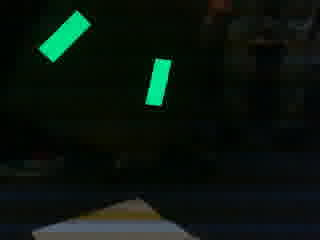target: (35, 9, 173, 110)
